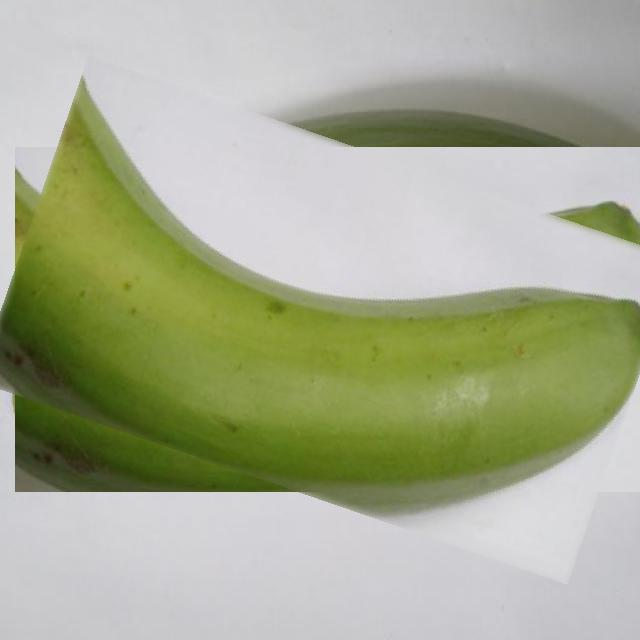Verde: (0, 101, 640, 538)
